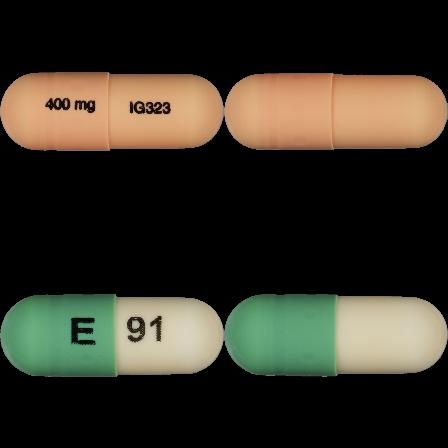35356-727: (0, 0, 224, 224)
